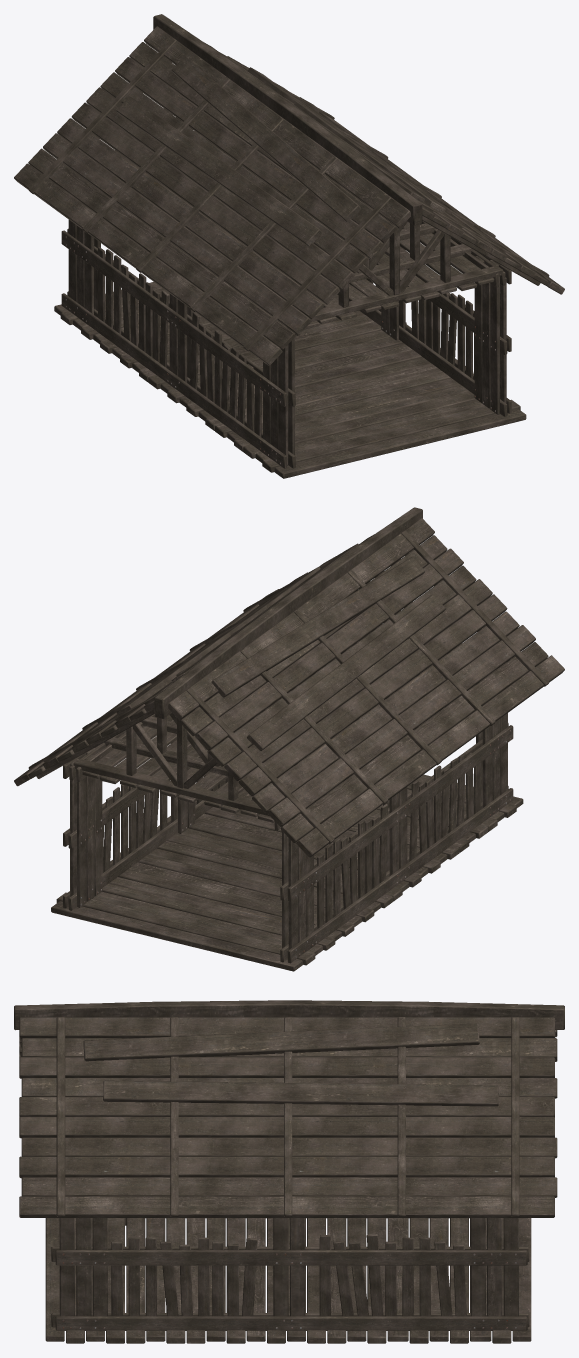
The picture shows the model from 3 angles, top to bottom: view 1: azimuth 30°, elevation 25°; view 2: azimuth 150°, elevation 25°; view 3: azimuth 270°, elevation 25°; orthographic projection. The views are drawn at different scales.
Parts seen in each view (by area): view 1: 001; view 2: 001; view 3: 001.
Part boxes in pixels (<box>): 001: <box>14,14,564,478</box>; 001: <box>14,507,564,971</box>; 001: <box>14,1000,564,1343</box>.
Bounding box in the file's own units: 631 × 527 × 939.
